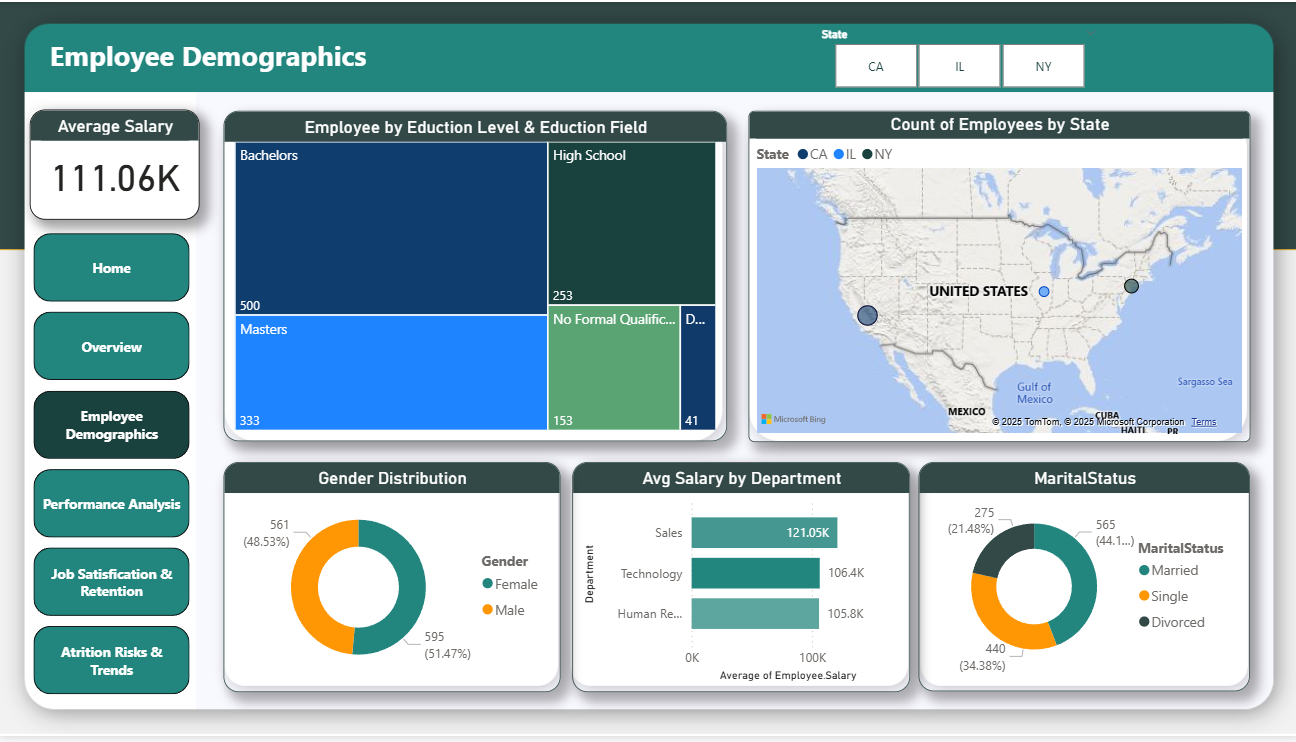

This screenshot's page, from the dashboard's own definition file:
{"tool":"powerbi","page":{"name":"Employee Demographics","canvas":[1280,720],"ordinal":2},"visuals":[{"type":"treemap","title":"Employee by Eduction Level & Eduction Field","fields":{"Values":["Count(PerformanceRatings.EmployeeID)"],"Group":["DimEducationLevel.EducationLevel","DimEmployee.EducationField"]},"box":[222.5,106.7,493.3,324.2],"z":0},{"type":"clusteredBarChart","title":"Avg Salary by Department","fields":{"Y":["Avg(PerformanceRatings.Employee.Salary)"],"Category":["Department.Department"]},"box":[564.4,450.3,331.3,225.8],"z":1000},{"type":"donutChart","title":"Gender Distribution","fields":{"Category":["Employee.Gender"],"Y":["Count(PerformanceRatings.EmployeeID)"]},"box":[223.3,450.3,330.1,225.8],"z":2000},{"type":"donutChart","title":"MaritalStatus","fields":{"Category":["Employee.MaritalStatus"],"Y":["Count(PerformanceRatings.EmployeeID)"]},"box":[904.3,450.3,325.2,224.5],"z":3000},{"type":"map","title":"Count of Employees by State","fields":{"Y":["States.Latitude"],"X":["States.Longitude"],"Size":["CountNonNull(PerformanceRating2.EmployeeID)"],"Series":["States.State"]},"box":[738,106,492,325],"z":4000},{"type":"card","title":"Average Salary","fields":{"Values":["Avg(PerformanceRatings.Employee.Salary)"]},"box":[32.5,105.8,166.7,108.3],"z":5000},{"type":"textbox","box":[47.9,29.4,341.1,50.3],"z":6000},{"type":"pageNavigator","box":[36.7,226.7,153.3,453.3],"z":7000},{"type":"slicer","fields":{"Values":["States.State"]},"box":[796.3,19.6,294.5,71.2],"z":8000}]}

Visuals, with their boxes in screenshot pixels (x1, y1, x2, y2), scaled from the page's 1280x720 canvas onto the 1296x742 screenshot:
"Employee by Eduction Level & Eduction Field" treemap: box(225, 110, 725, 444)
"Avg Salary by Department" clusteredBarChart: box(571, 464, 907, 697)
"Gender Distribution" donutChart: box(226, 464, 560, 697)
"MaritalStatus" donutChart: box(916, 464, 1245, 695)
"Count of Employees by State" map: box(747, 109, 1245, 444)
"Average Salary" card: box(33, 109, 202, 221)
textbox: box(48, 30, 394, 82)
pageNavigator: box(37, 234, 192, 701)
slicer - States.State: box(806, 20, 1104, 94)
